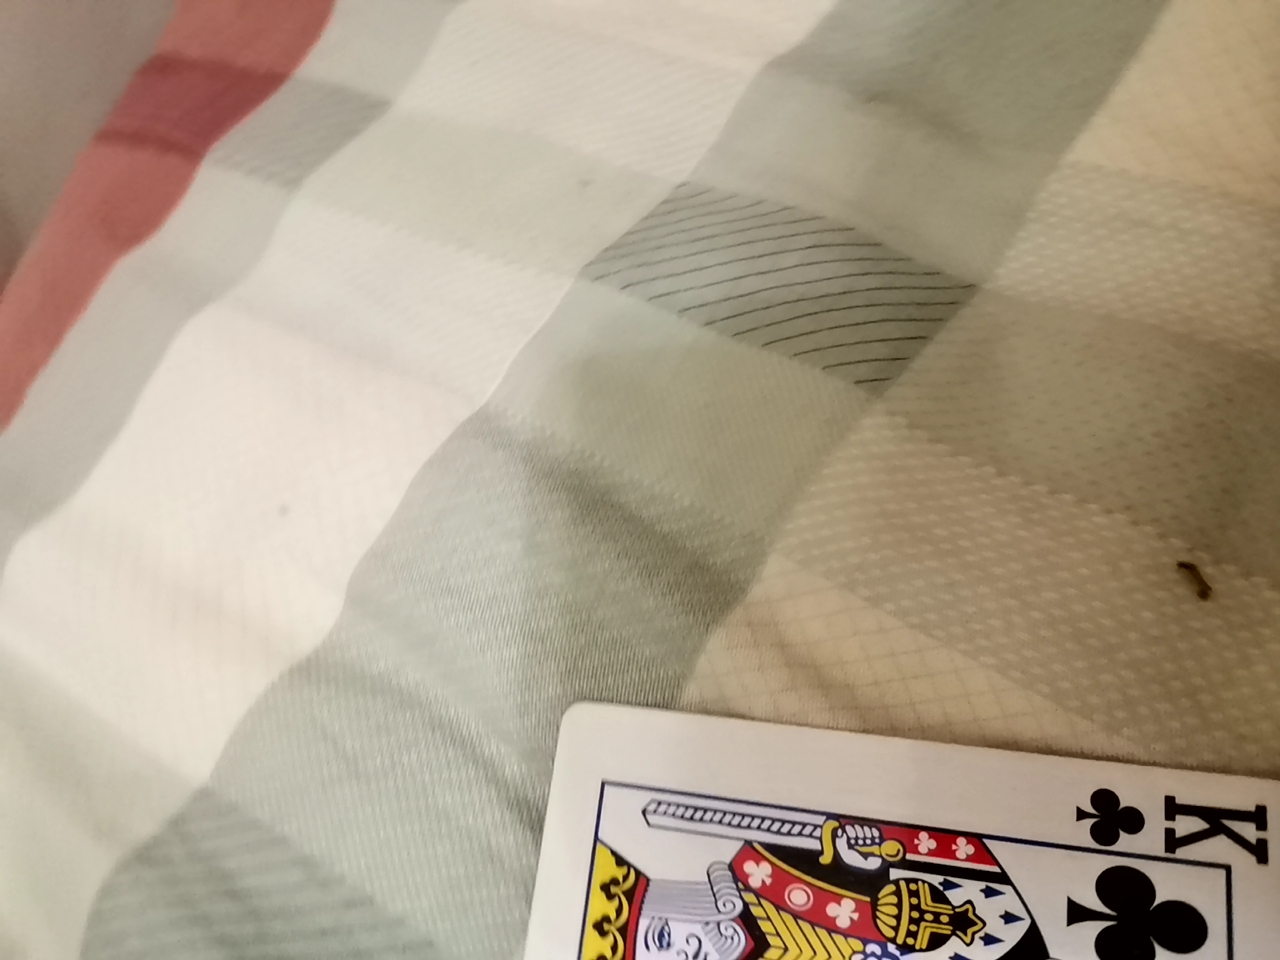mh k: (497, 707, 1271, 960)
